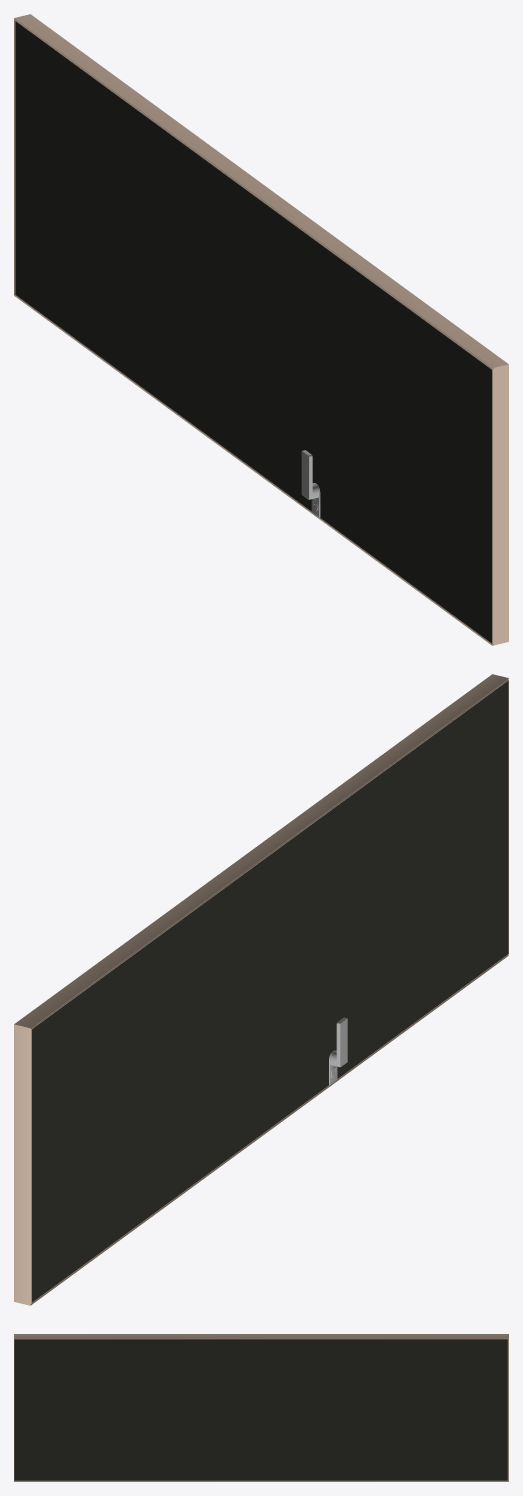
Rendered from door_rimadesio.fbx.
3 renders of one model, top to bottom at view 1: azimuth 30°, elevation 25°; view 2: azimuth 150°, elevation 25°; view 3: azimuth 270°, elevation 25°, orthographic. The views are drawn at different scales.
Parts seen in each view (by area): view 1: imagetostl_mesh0, imagetostl_mesh1, imagetostl_mesh2; view 2: imagetostl_mesh0, imagetostl_mesh1, imagetostl_mesh2; view 3: imagetostl_mesh0, imagetostl_mesh1.
Part boxes in pixels (x1,y1,x2,y2): imagetostl_mesh0: (15, 21, 492, 643); imagetostl_mesh1: (14, 14, 508, 645); imagetostl_mesh2: (301, 450, 320, 517); imagetostl_mesh0: (31, 680, 508, 1302); imagetostl_mesh1: (14, 674, 508, 1305); imagetostl_mesh2: (329, 1017, 347, 1085); imagetostl_mesh0: (14, 1339, 507, 1480); imagetostl_mesh1: (14, 1334, 508, 1481).
Bounding box in the file's own units: 5.55 × 53.33 × 167.
